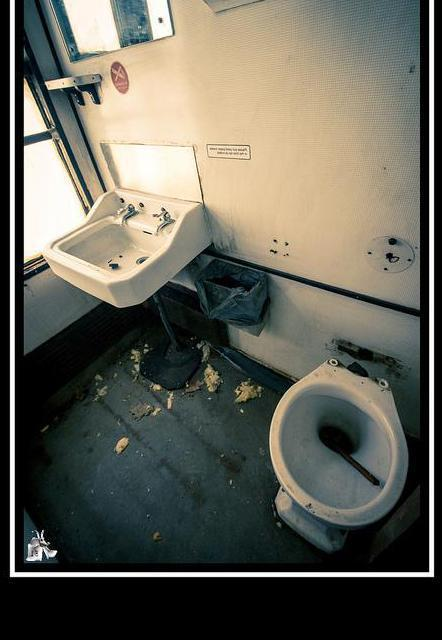Bote de Basura: (194, 255, 280, 333)
Lavamanos: (44, 194, 202, 396)
Sanitario: (259, 345, 406, 544)
